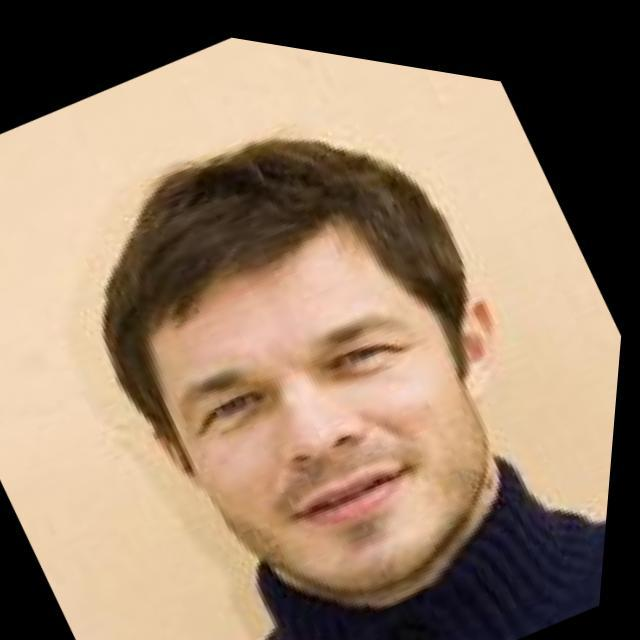Nonhelmet: (86, 130, 507, 598)
